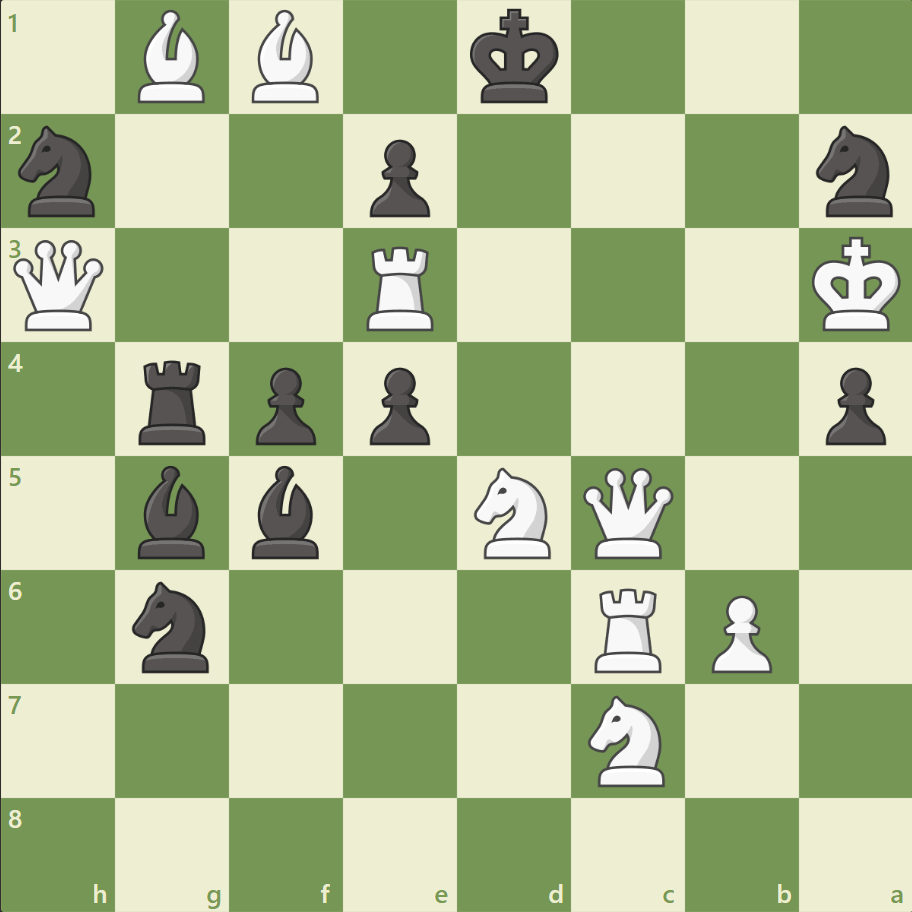B: (244, 6, 328, 109), (131, 6, 215, 109)
K: (806, 231, 906, 339)
N: (579, 688, 676, 791), (465, 461, 562, 564)
P: (701, 586, 776, 677)
Q: (578, 463, 677, 562), (10, 236, 109, 335)
R: (587, 579, 670, 676), (360, 239, 442, 336)
b: (244, 460, 328, 563), (131, 460, 215, 563)
k: (465, 4, 565, 112)
n: (124, 575, 222, 677), (806, 121, 903, 223), (11, 121, 108, 223)
p: (247, 359, 322, 450), (815, 359, 889, 450), (361, 359, 435, 450), (361, 132, 435, 223)
r: (133, 352, 215, 449)
